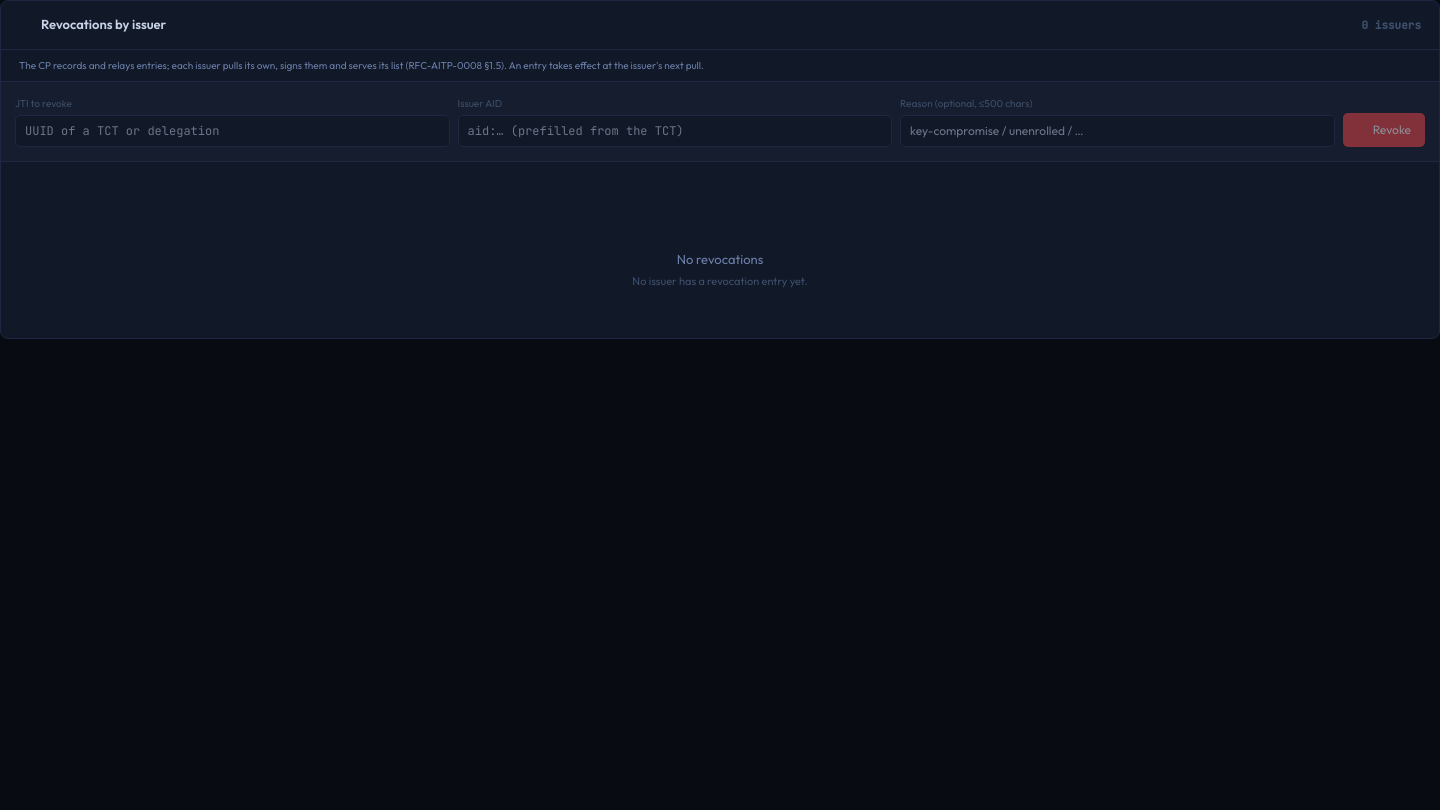
Scenario: RevocationView, per-issuer model › prefills the issuer from the TCT and sends iss with the revocation
Type "11111111-1111-4111-8111-111111111111" into the field with placeholder "UUID of a TCT or delegation".
click(232, 130); type("11111111-1111-4111-8111-111111111111")  # box [15, 114, 450, 146]
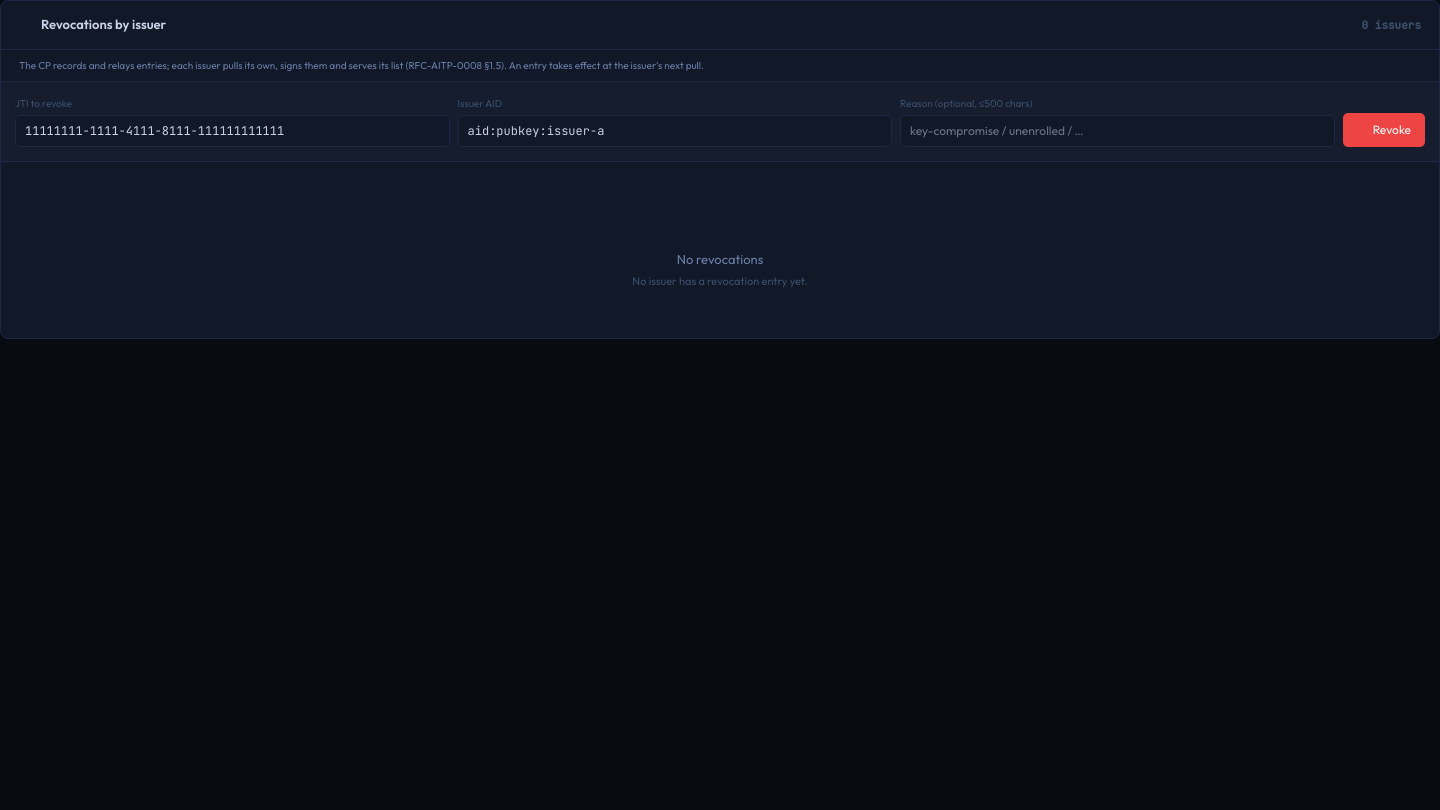
Expected: the field with placeholder "aid:… (prefilled from the TCT)" holds "aid:pubkey:issuer-a", [458, 114, 892, 146]
Click the button "Revoke".
click(1384, 130)  # box [1343, 112, 1425, 146]
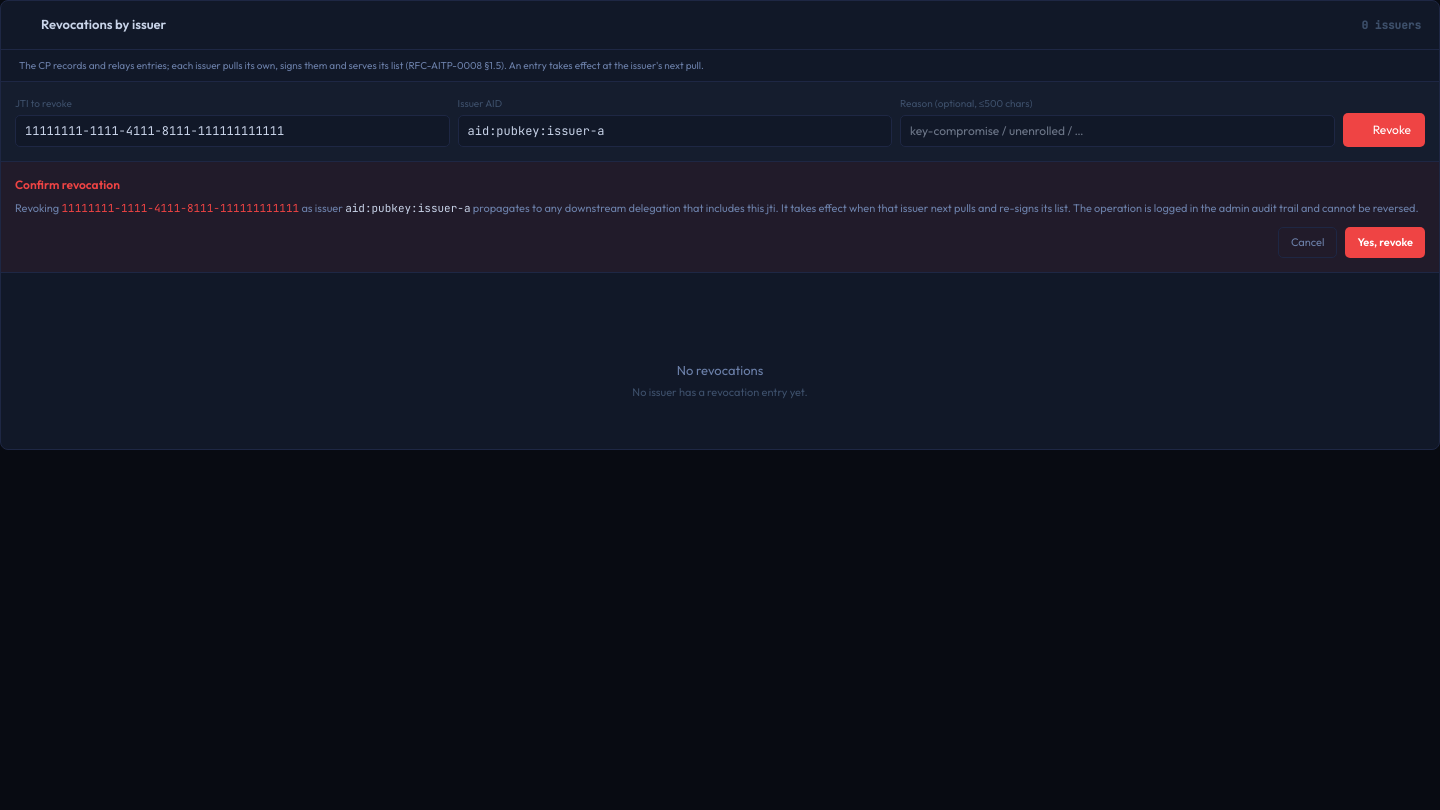
Click the button "Yes, revoke".
click(1385, 242)  # box [1345, 227, 1425, 258]
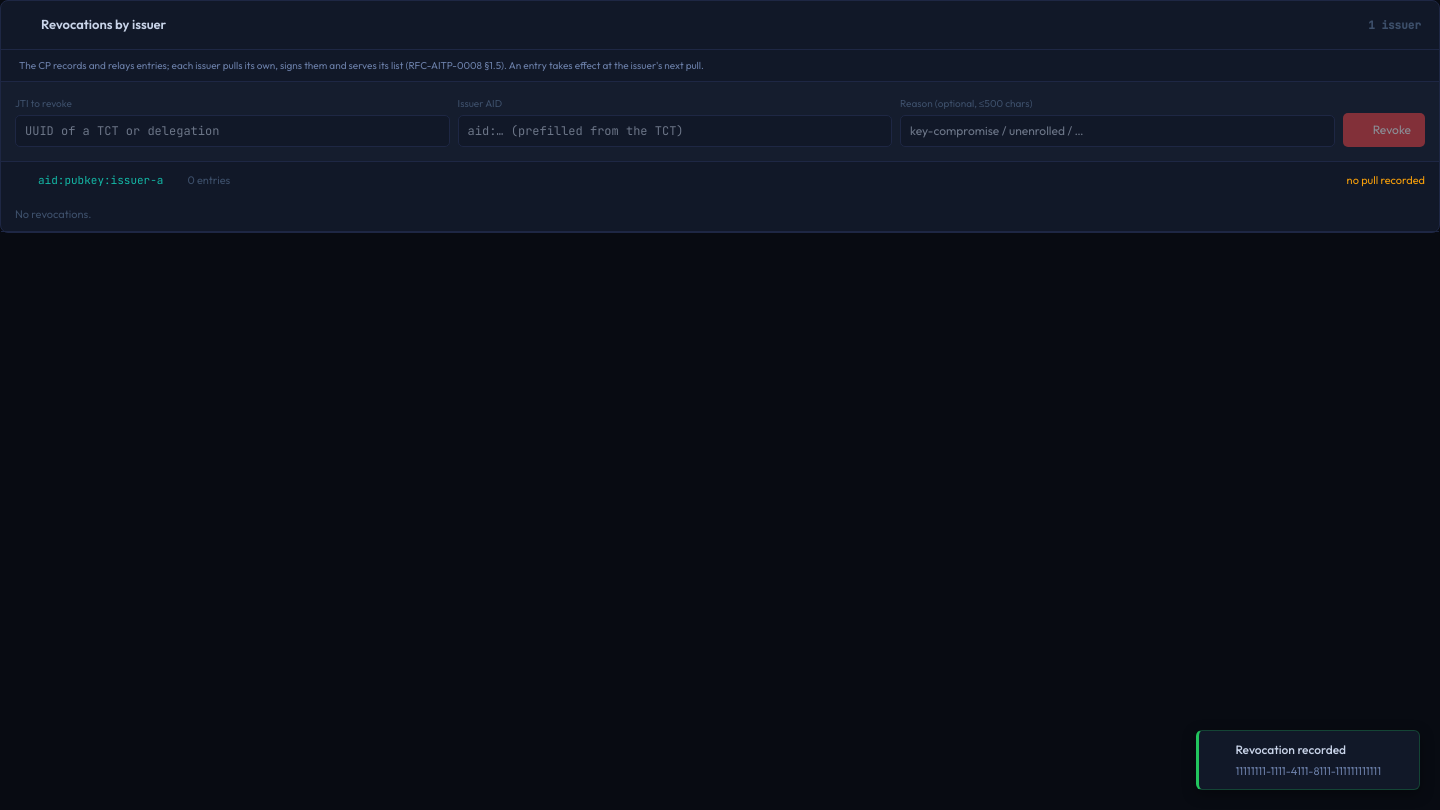
Expected: the text "Revocation recorded" is shown, [1235, 742, 1346, 756]
